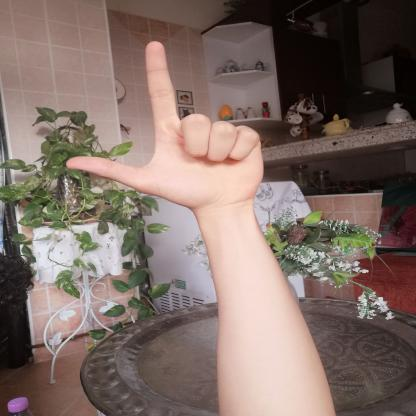LAAM: (52, 28, 275, 214)
